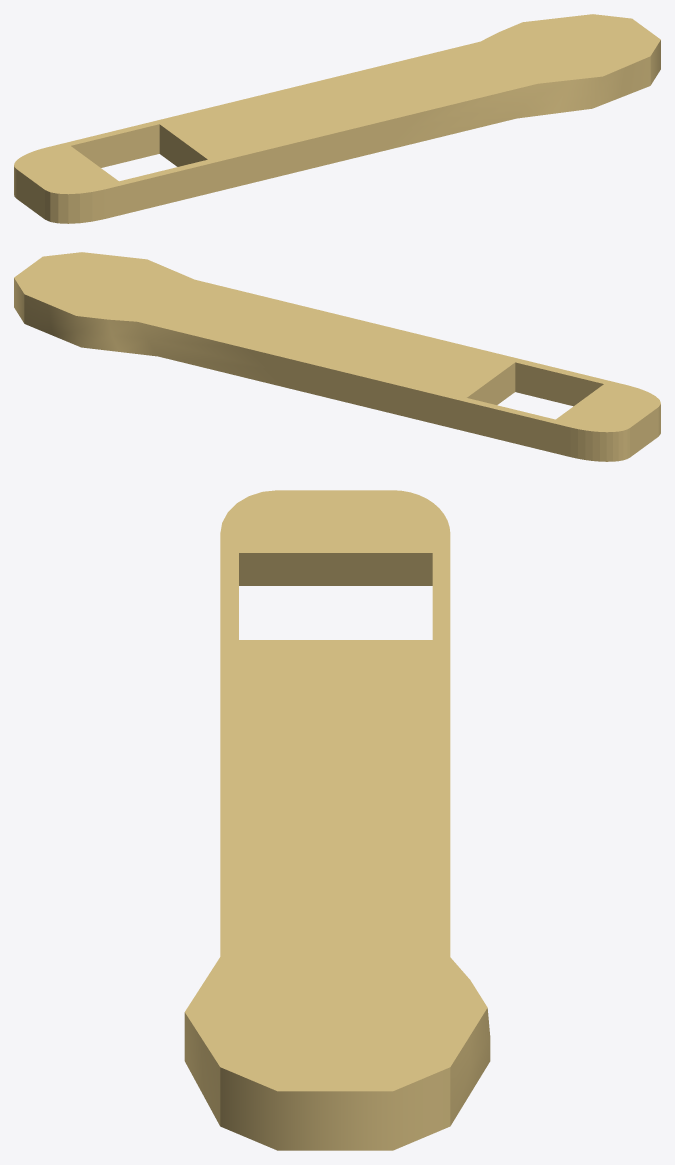
File: StapicIzmena.fbx
3 views of the same model, one above another, from view 1: azimuth 30°, elevation 25°; view 2: azimuth 150°, elevation 25°; view 3: azimuth 270°, elevation 25° (orthographic). The views are drawn at different scales.
Parts seen in each view (by area): view 1: Cube.106; view 2: Cube.106; view 3: Cube.106.
Boxes of the visible parts, left/top/right/bottom form: Cube.106: left=14, top=14, right=660, bottom=223; Cube.106: left=14, top=252, right=660, bottom=461; Cube.106: left=184, top=490, right=490, bottom=1150.
Bounding box in the file's own units: 0.9132 × 0.042 × 0.1962.
